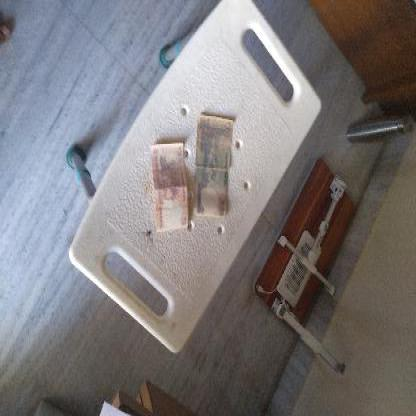Old100Back: (197, 117, 232, 220)
Old10Back: (152, 141, 192, 232)
